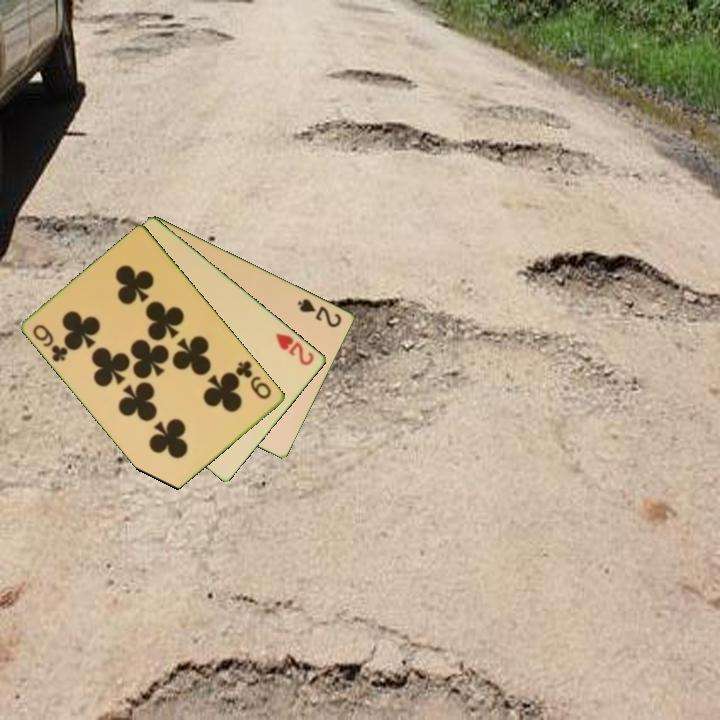2h: (272, 329, 317, 368)
2s: (294, 295, 345, 331)
9c: (232, 357, 275, 402), (29, 321, 72, 365)
